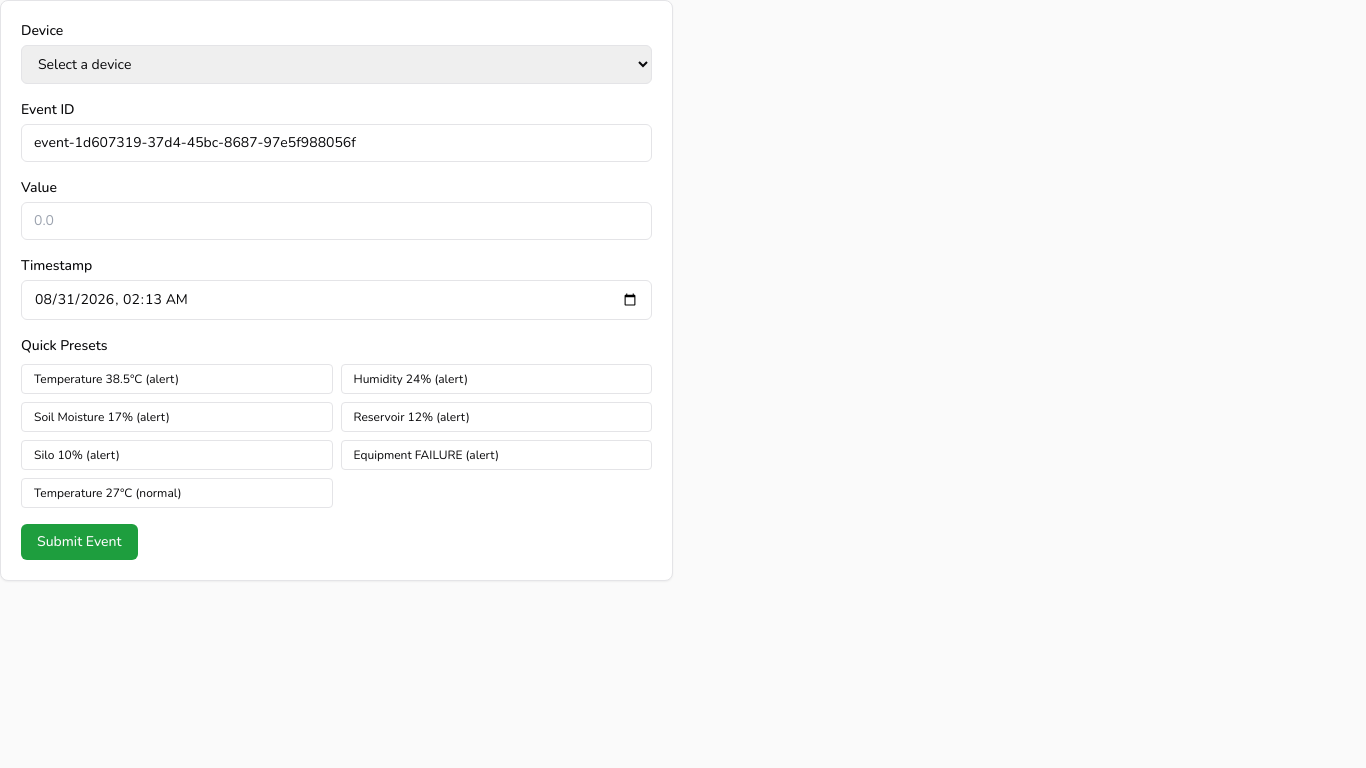
SimulatorForm › shows no-alert feedback when no notification is found
Select "Temp Sensor (sensor-temp-01)" in the dropdown labelled "Device" at {"x": 336, "y": 64}, box [21,45,652,84]
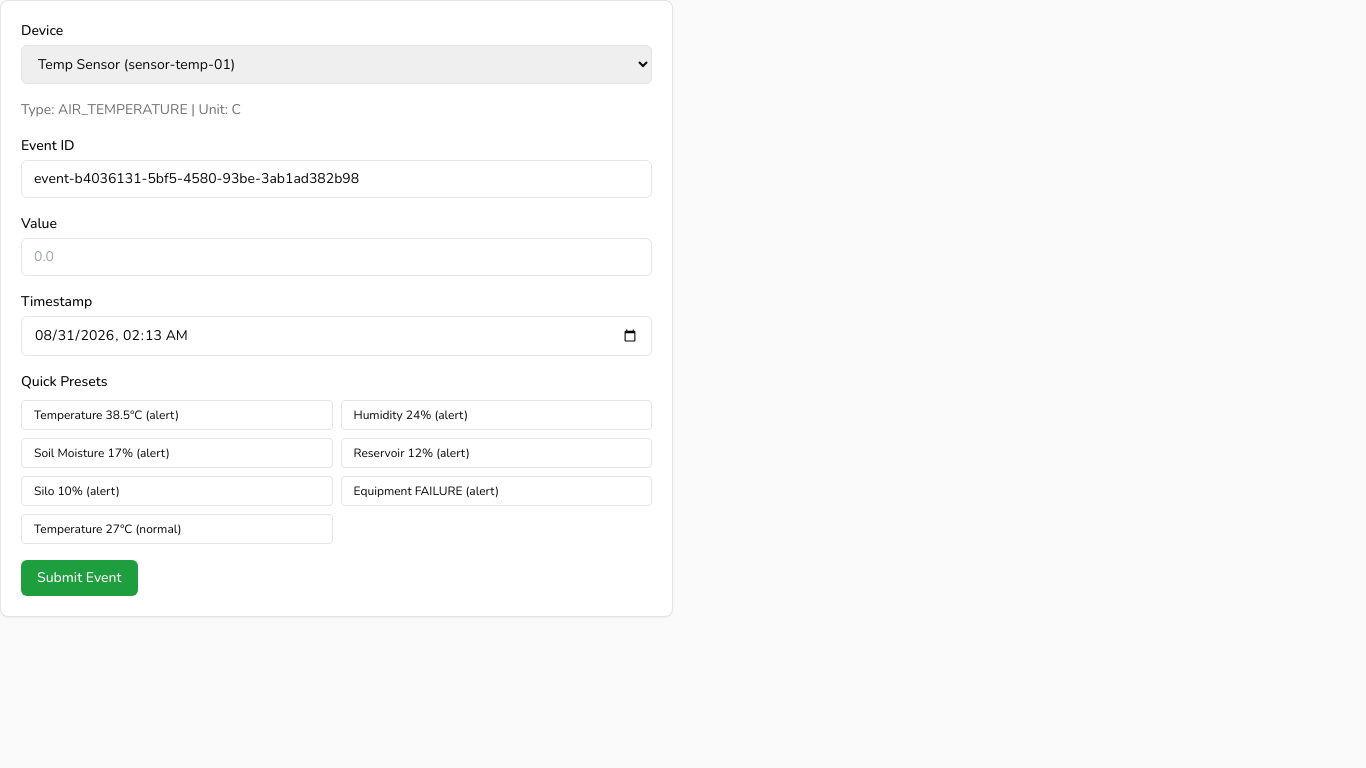
Type "27" into the number field labelled "Value" at {"x": 336, "y": 257}, box [21,238,652,276]
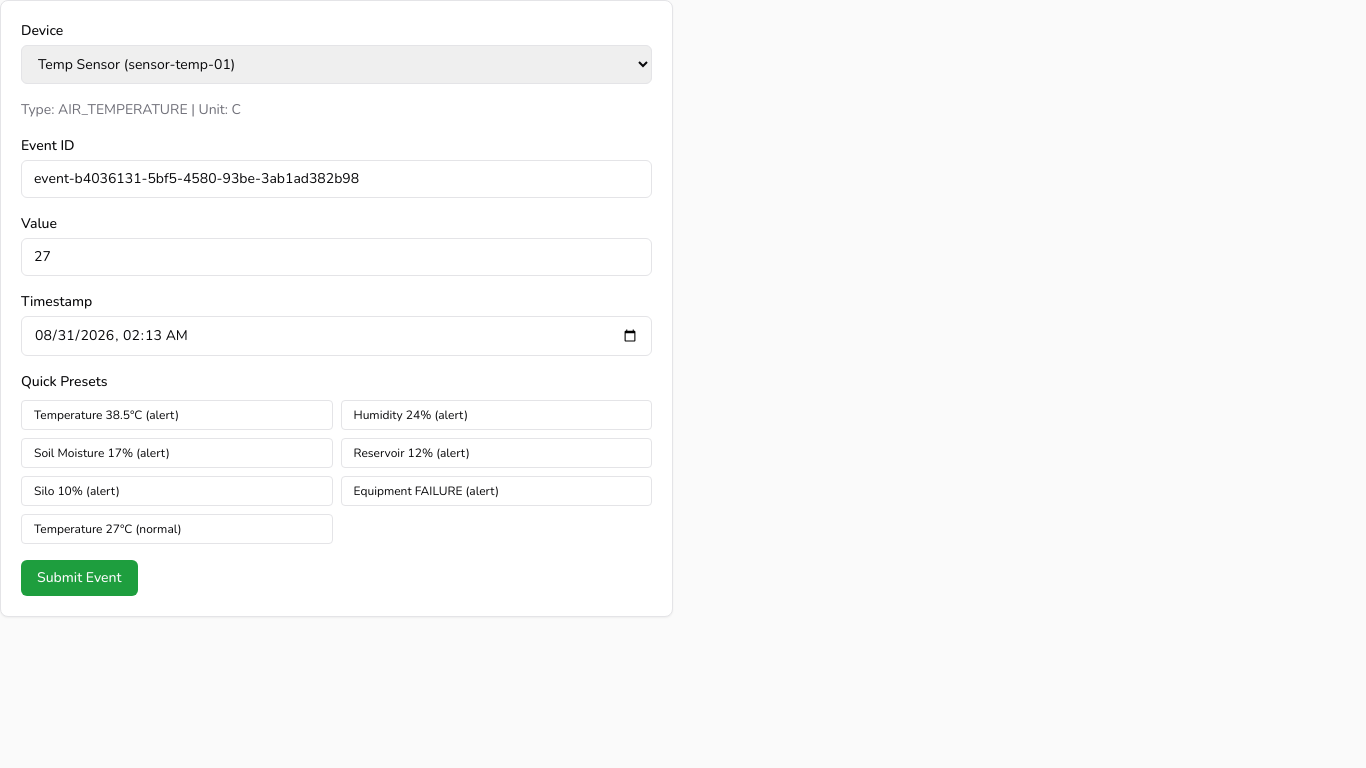
Click the button "Submit Event" at {"x": 79, "y": 578}, box [21,560,138,596]
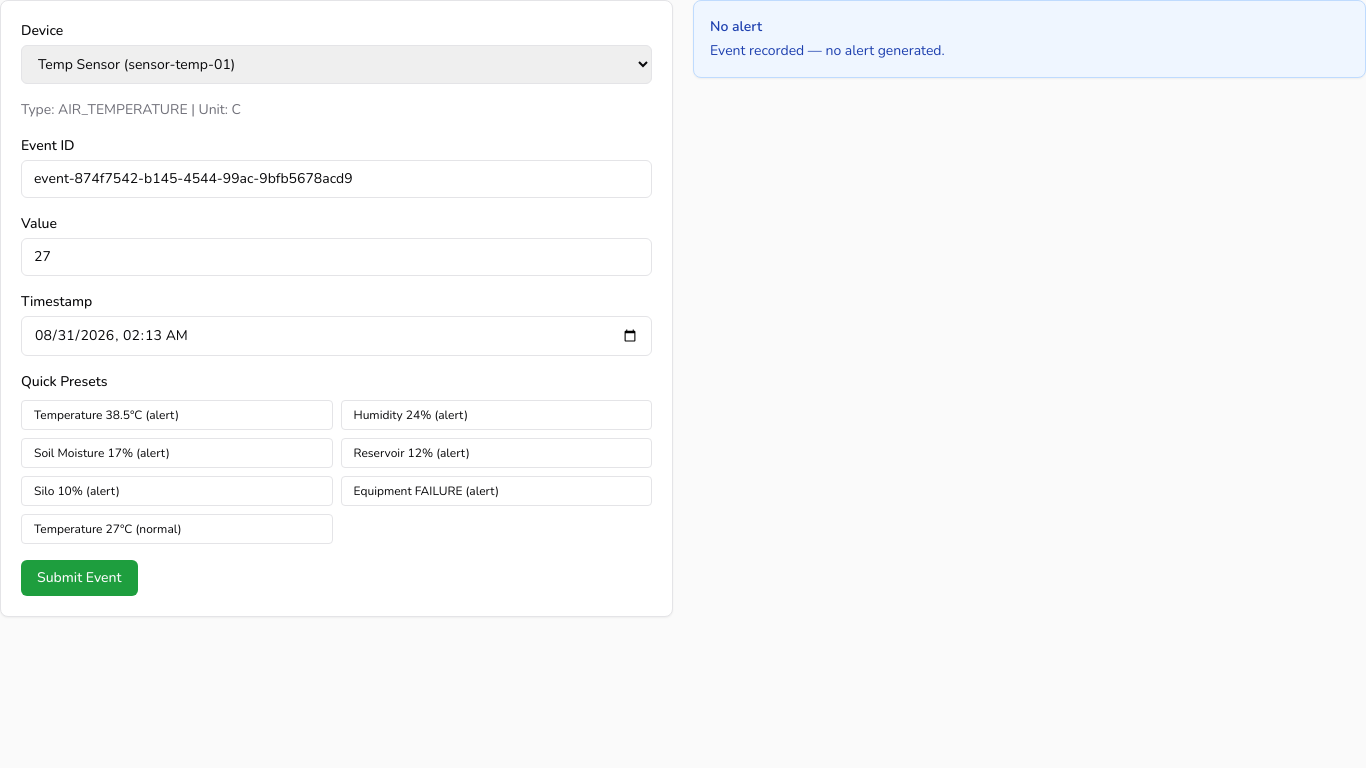
expect the text "Event recorded — no alert generated." is shown: met, box [710,41,945,60]
